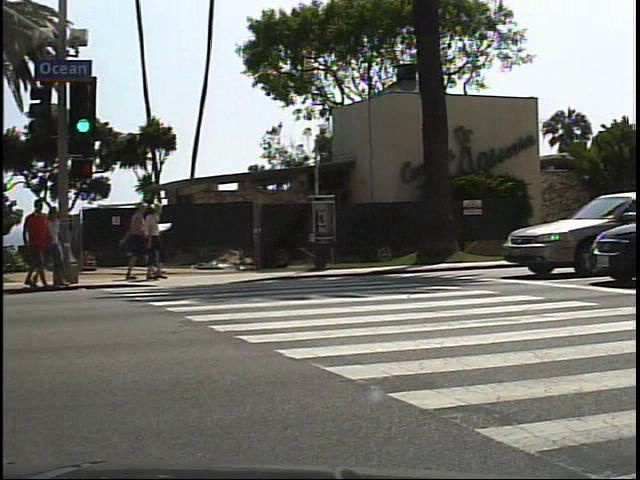person: (22, 192, 53, 300), (46, 202, 64, 287)
